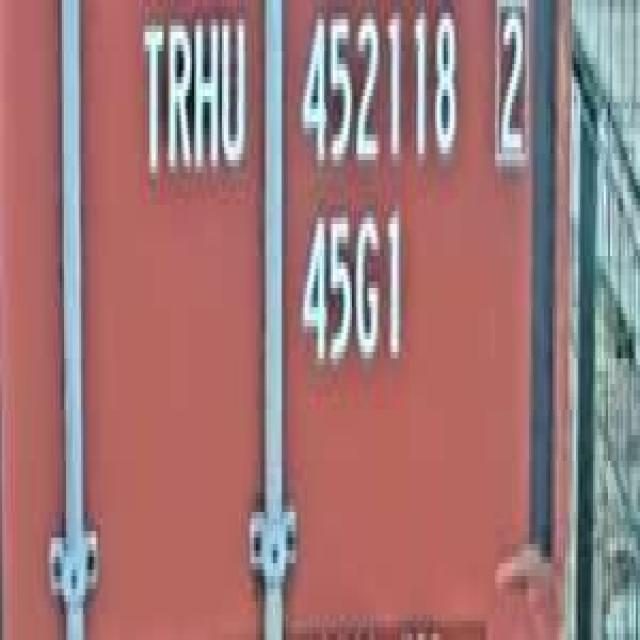dv: (491, 0, 533, 179)
owner: (136, 0, 249, 198)
serial: (294, 0, 461, 186)
size: (294, 198, 408, 390)
